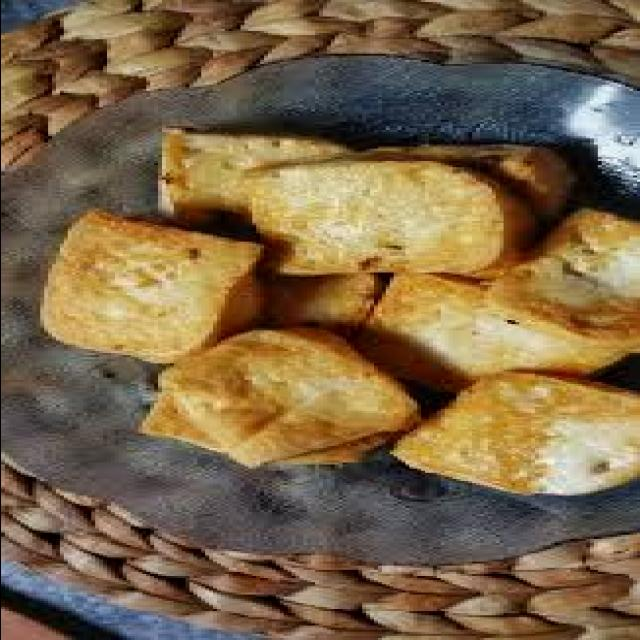tahu goreng: (234, 157, 528, 286), (162, 320, 414, 468), (39, 209, 263, 365), (420, 359, 624, 512)
